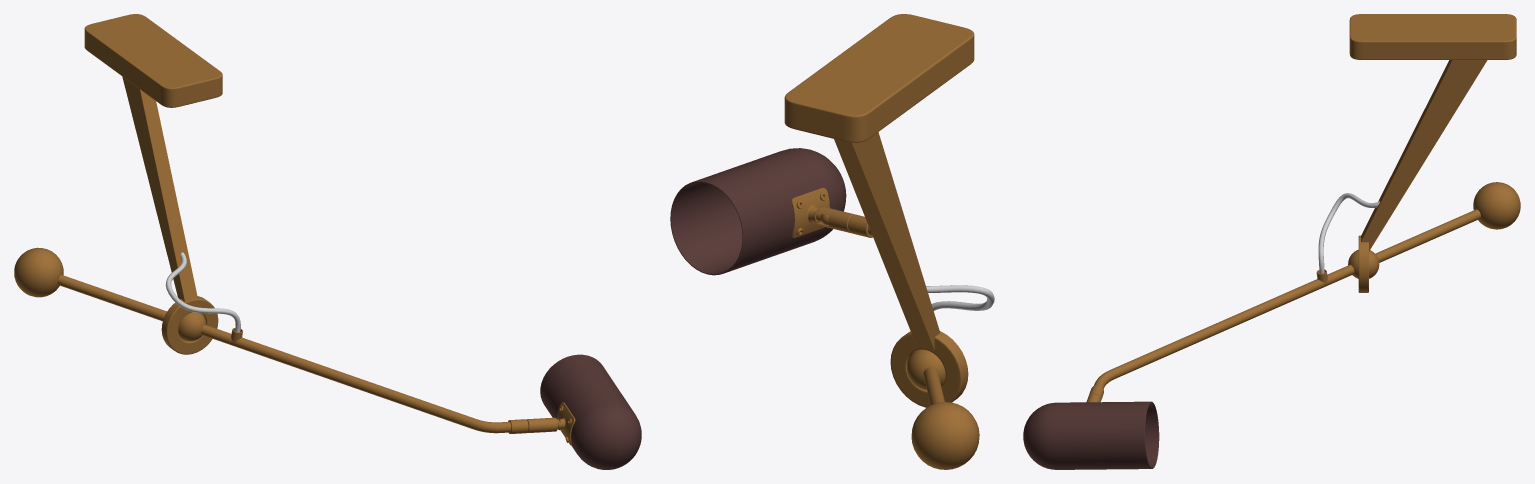
File: Bertfrank_Stasis_Wall_Light_mat(3).obj
3 views of the same model, side by side, from view 1: azimuth 30°, elevation 25°; view 2: azimuth 150°, elevation 25°; view 3: azimuth 270°, elevation 25° (orthographic). The views are drawn at different scales.
Visible parts, largest first — view 1: Bertfrank_Stasis_Wall_Light_mat3; view 2: Bertfrank_Stasis_Wall_Light_mat3; view 3: Bertfrank_Stasis_Wall_Light_mat3.
Boxes of the visible parts, box(x1,y1,x2,y2) form: Bertfrank_Stasis_Wall_Light_mat3: box(14, 14, 641, 469); Bertfrank_Stasis_Wall_Light_mat3: box(670, 14, 994, 469); Bertfrank_Stasis_Wall_Light_mat3: box(1023, 14, 1520, 469).
Bounding box in the file's own units: 42.91 × 33.79 × 47.67.
